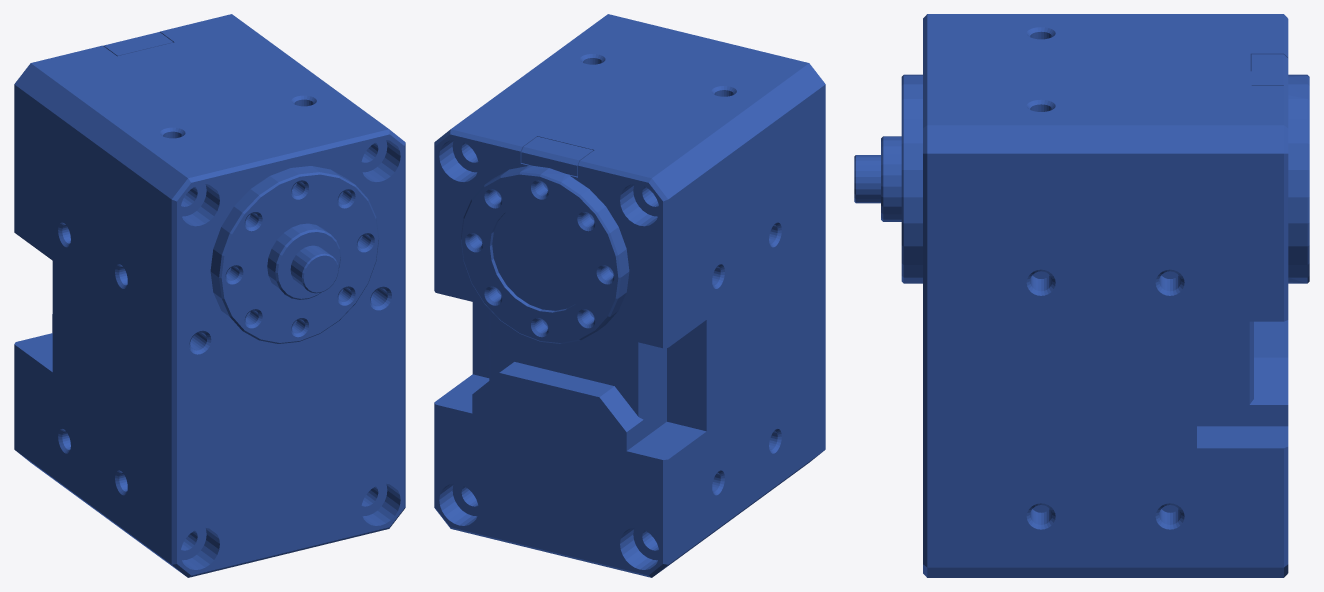
File: Motor_2_DUMMY_DC12_DUMMY_DC12.obj
3 views of the same model, side by side, from view 1: azimuth 30°, elevation 25°; view 2: azimuth 150°, elevation 25°; view 3: azimuth 270°, elevation 25° (orthographic). The views are drawn at different scales.
Size of the model in its own units: 0.0285 by 0.0465 by 0.0424.
